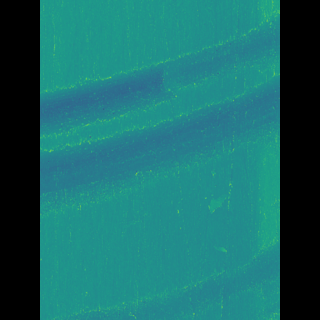Loch: (69, 74, 251, 219), (69, 11, 250, 142), (89, 244, 251, 319)
